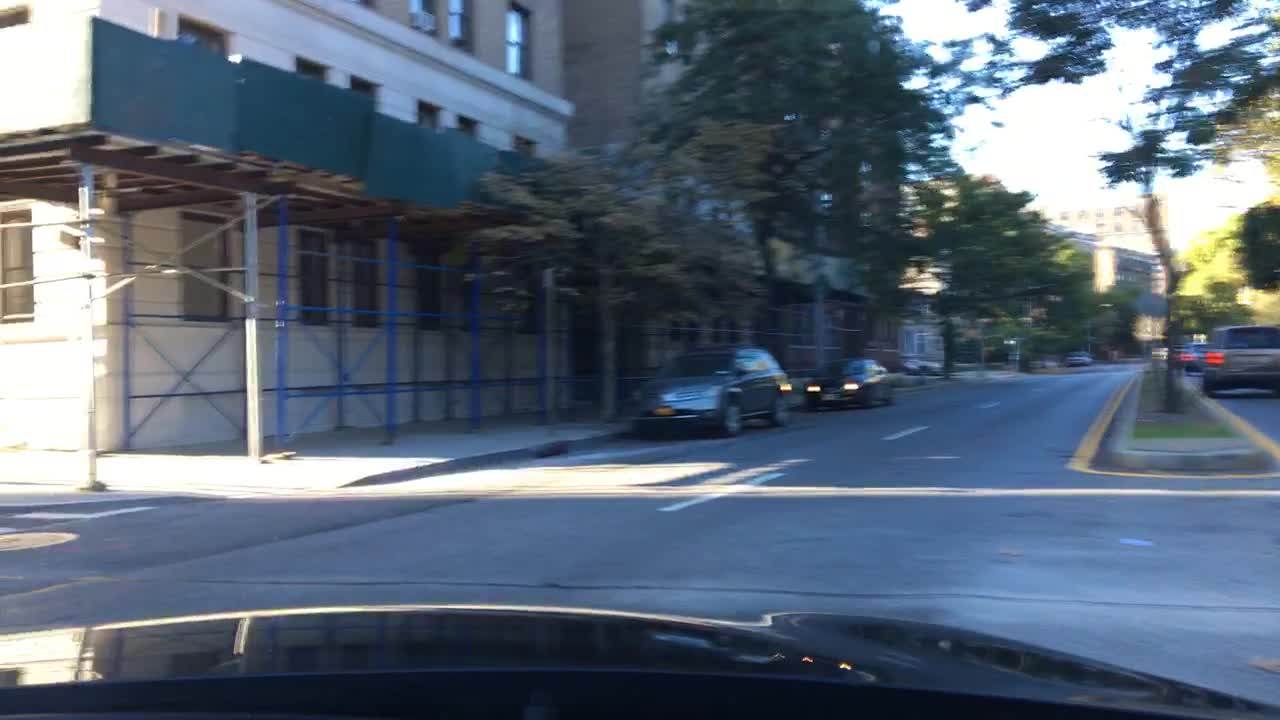car: (626, 343, 794, 436), (1203, 320, 1278, 392), (800, 355, 897, 410), (788, 368, 823, 404), (1180, 341, 1206, 375), (899, 356, 938, 374), (1064, 347, 1092, 366), (1042, 348, 1061, 369), (1023, 351, 1042, 369), (1146, 343, 1167, 356)
